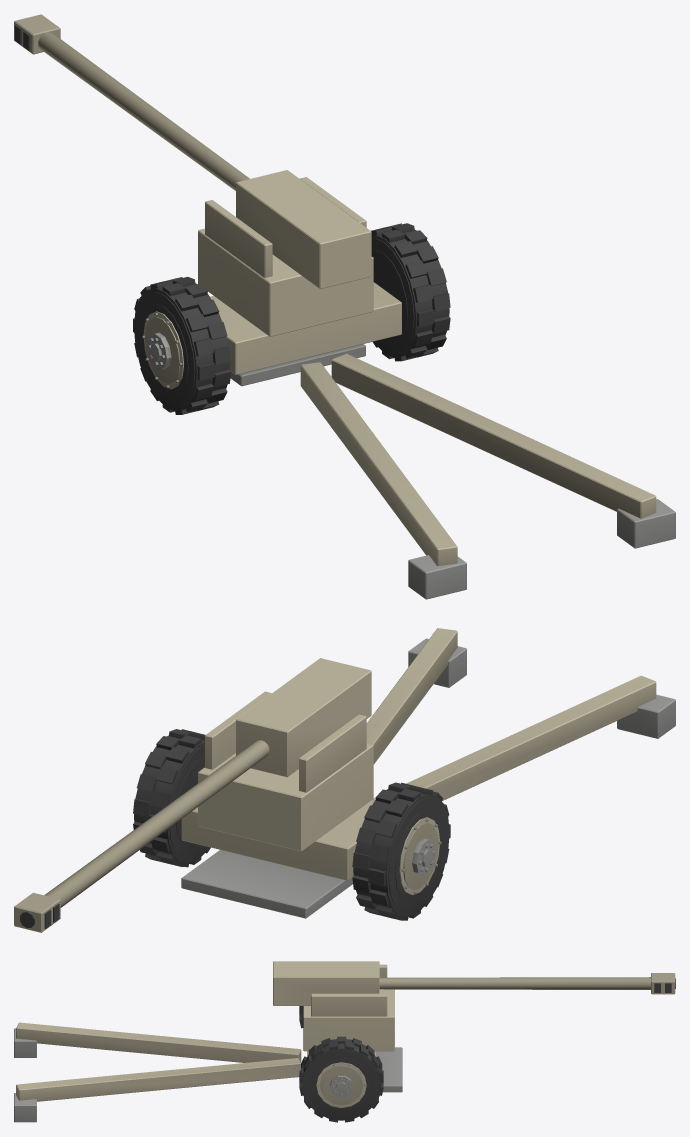
The model's file is rus_tow_d20.glb.
3 renders of one model, top to bottom at view 1: azimuth 30°, elevation 25°; view 2: azimuth 150°, elevation 25°; view 3: azimuth 270°, elevation 25°, orthographic. The views are drawn at different scales.
Visible parts, largest first — view 1: body, barrel, turret, wheel_0, wheel_1; view 2: body, barrel, turret, wheel_0, wheel_1; view 3: body, barrel, wheel_1, turret.
Boxes of the visible parts, box(x1,y1,x2,y2) form: body: box(210, 282, 675, 599); barrel: box(14, 14, 371, 288); turret: box(198, 177, 373, 336); wheel_0: box(133, 276, 231, 414); wheel_1: box(371, 223, 450, 361); body: box(181, 628, 675, 918); barrel: box(14, 658, 371, 932); turret: box(198, 691, 373, 851); wheel_0: box(352, 782, 450, 920); wheel_1: box(133, 729, 210, 867); body: box(14, 1022, 402, 1122); barrel: box(273, 961, 675, 1005); wheel_1: box(299, 1036, 383, 1122); turret: box(303, 964, 394, 1051).
Size of the model in its own units: 2.62 by 1.67 by 8.69.
